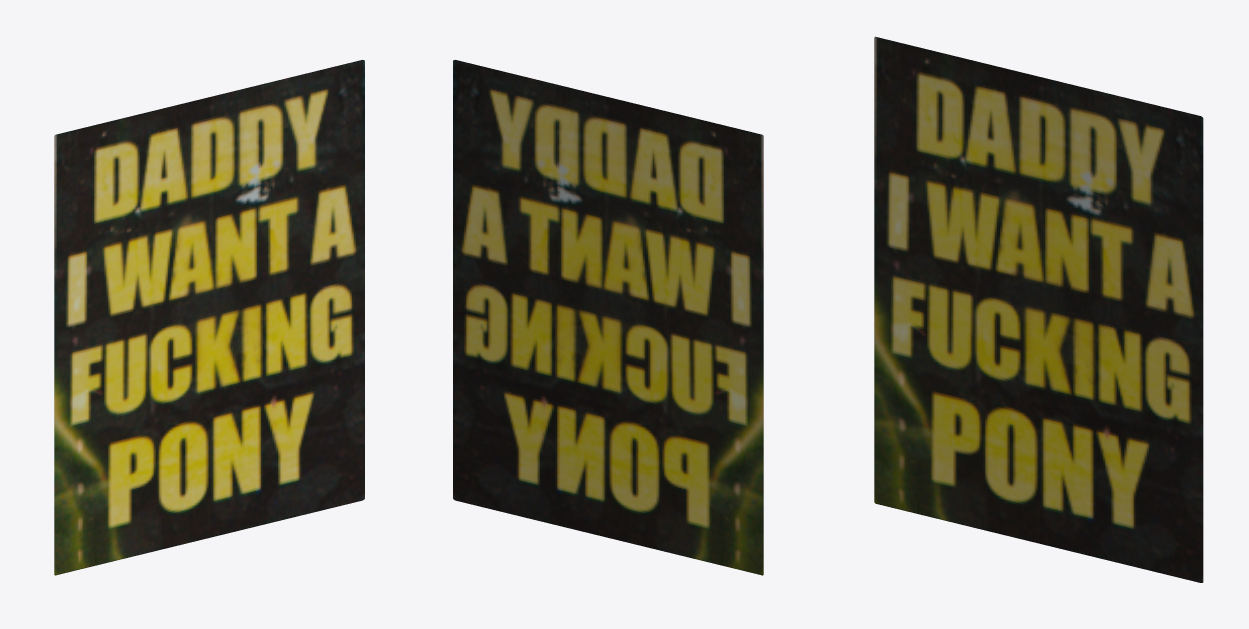
Rendered from Sticker_33.fbx.
3 renders of one model, left to right at view 1: azimuth 30°, elevation 25°; view 2: azimuth 150°, elevation 25°; view 3: azimuth 330°, elevation 25°, orthographic. The views are drawn at different scales.
Parts seen in each view (by area): view 1: Sticker_33; view 2: Sticker_33; view 3: Sticker_33.
Boxes of the visible parts, x1=… form: Sticker_33: x1=54, y1=60, x2=364, y2=575; Sticker_33: x1=453, y1=60, x2=763, y2=575; Sticker_33: x1=874, y1=36, x2=1203, y2=582.
Bounding box in the file's own units: 0.3673 × 0.4739 × 2.07e-08.
